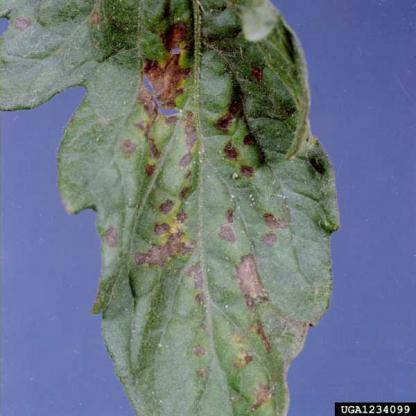Tomato leaf bacterial spot: (33, 5, 347, 412)
